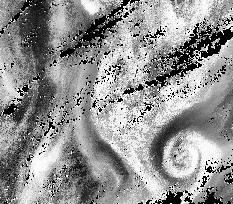CE: (162, 131, 213, 176)
